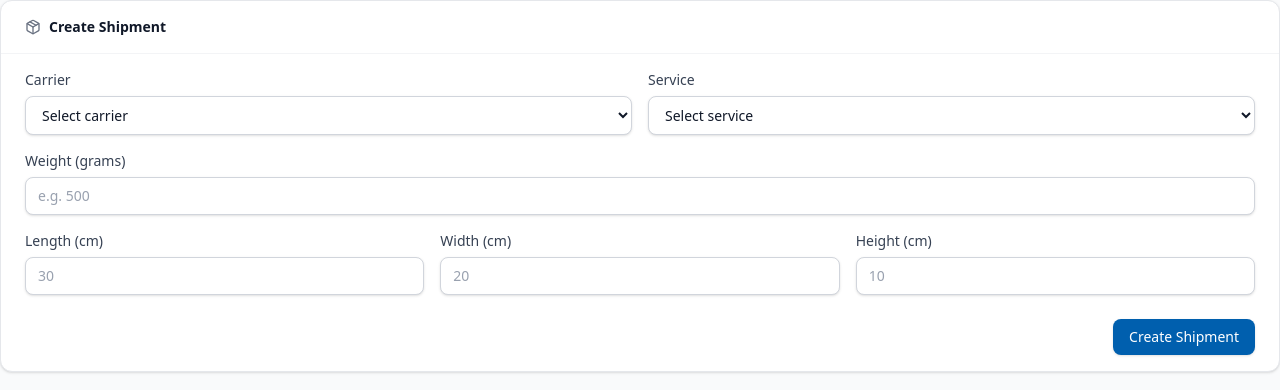
Test case: CreateShipmentForm › disables the submit button during submission
Click the button "Create Shipment".
click(1184, 337)  # box [1113,319,1255,355]
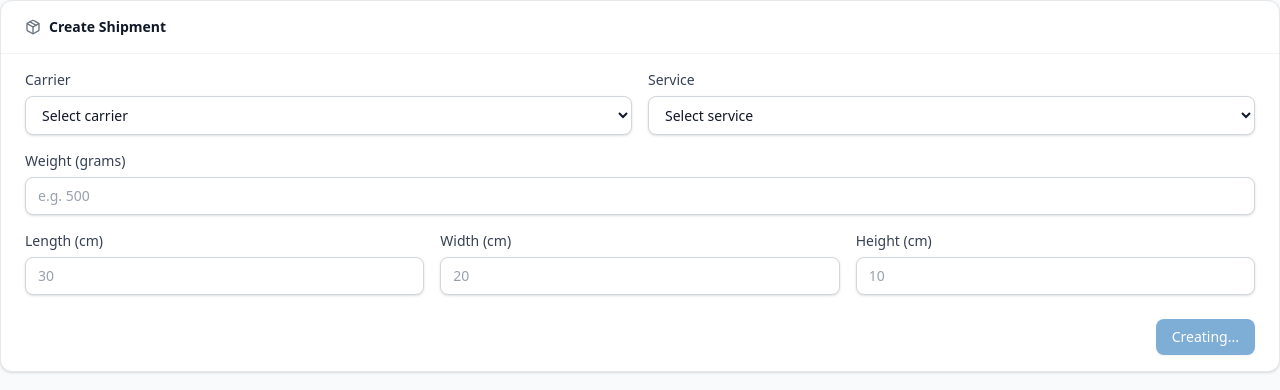
Expected: the button "Creating..." is disabled, [1156,319,1255,355]
